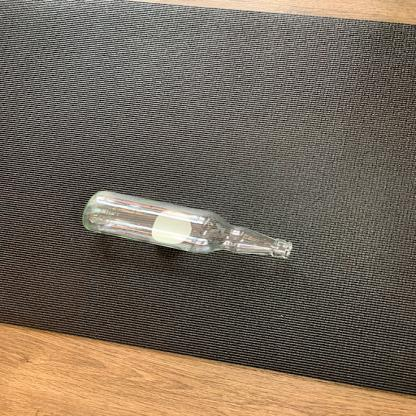trash: (82, 192, 294, 262)
